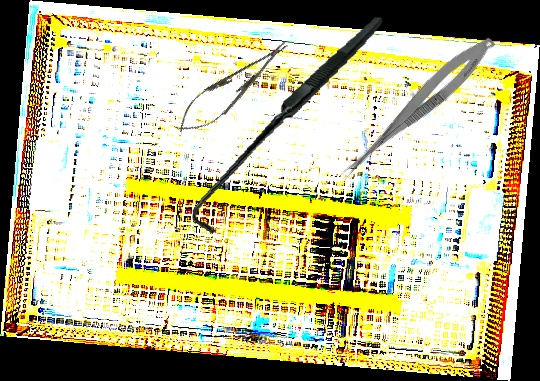Hook Surgical: (173, 16, 404, 236)
Micro Scissor: (334, 28, 502, 190)
Needle Holder: (168, 31, 298, 144)
